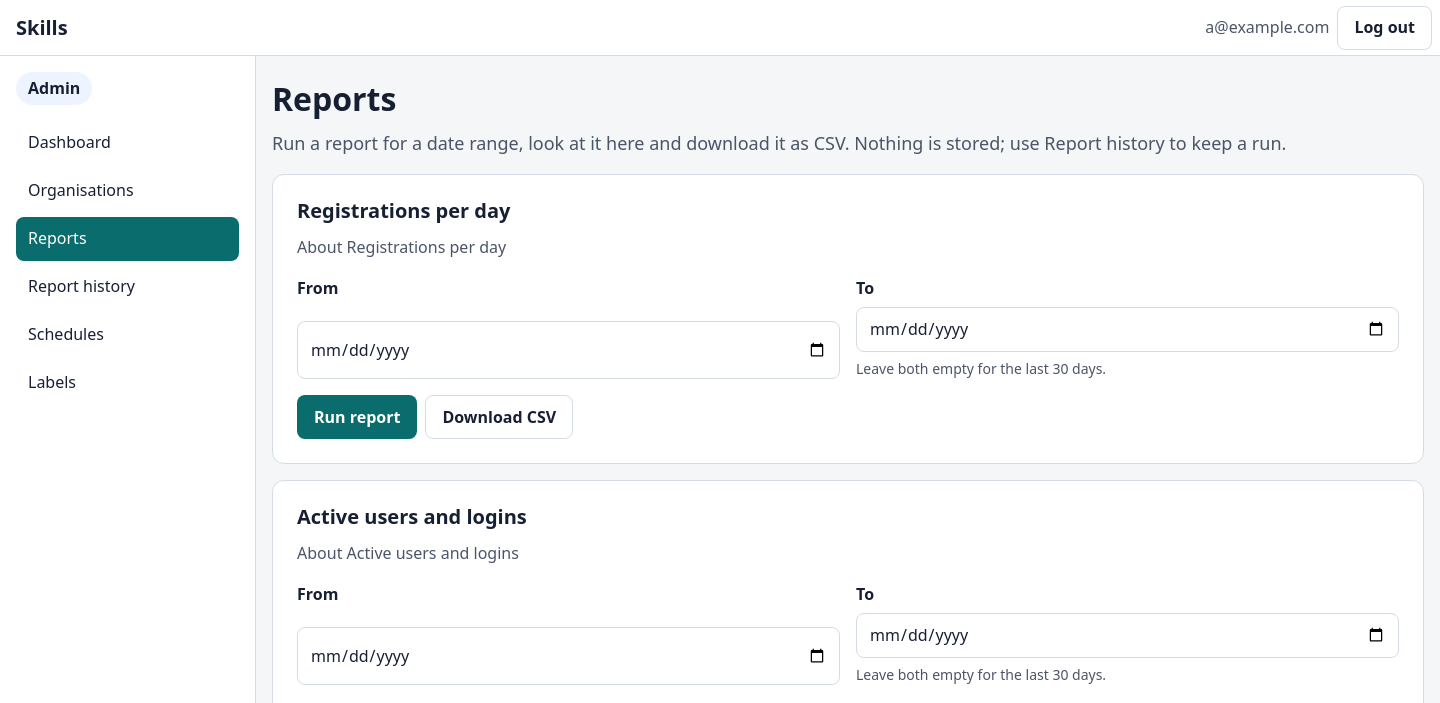
Scenario: report pages › runs a report for the default dates and shows the table
The width and height of the screenshot is (1440, 703).
Expected: the element "Registrations per day" is shown, [272, 174, 1424, 464]
Click the button "Run report" below "About Registrations per day" at (357,417), box [297, 395, 417, 439]
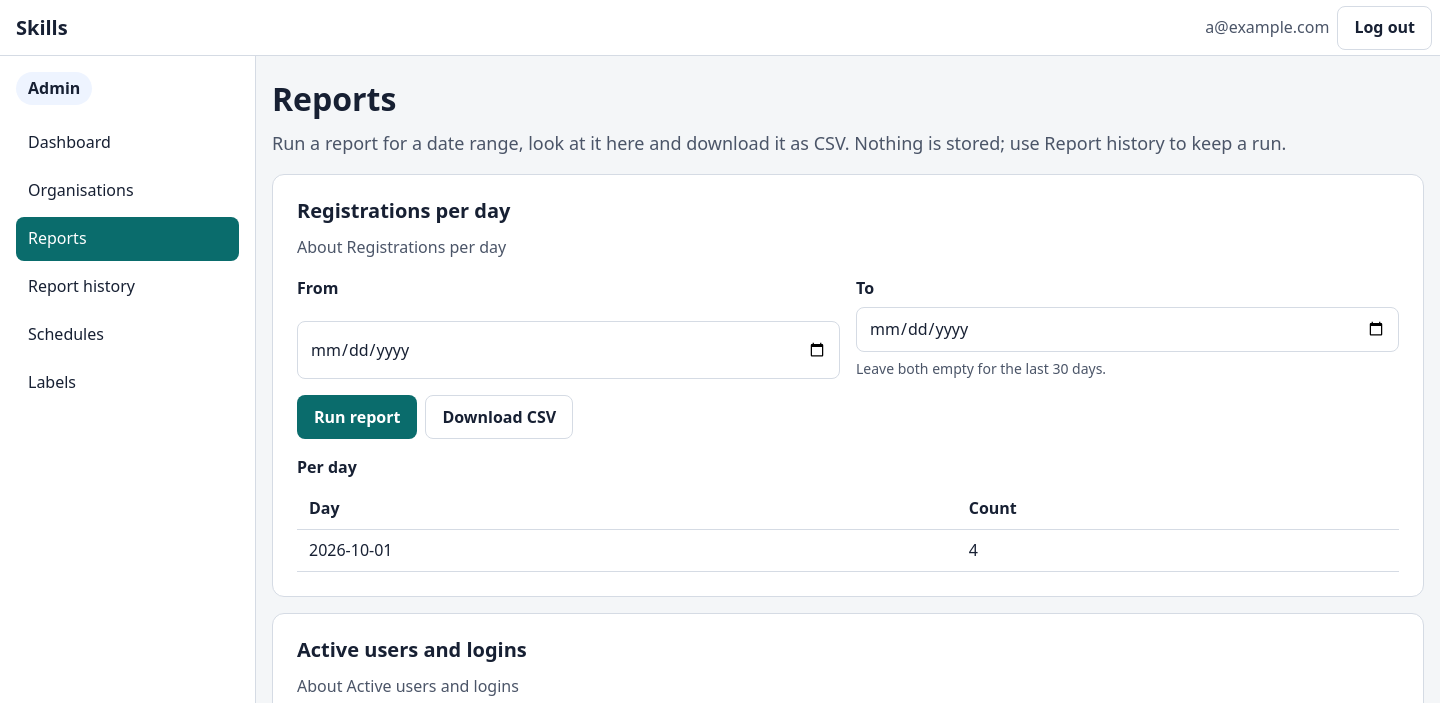
Expected: the cell "2026-10-01" is shown, [297, 530, 957, 571]
